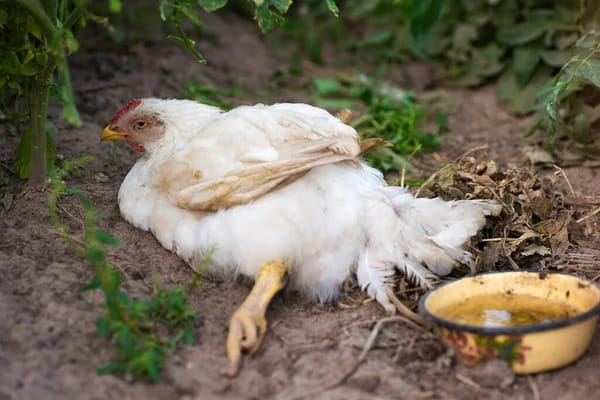Unhealthy: (95, 87, 497, 357)
